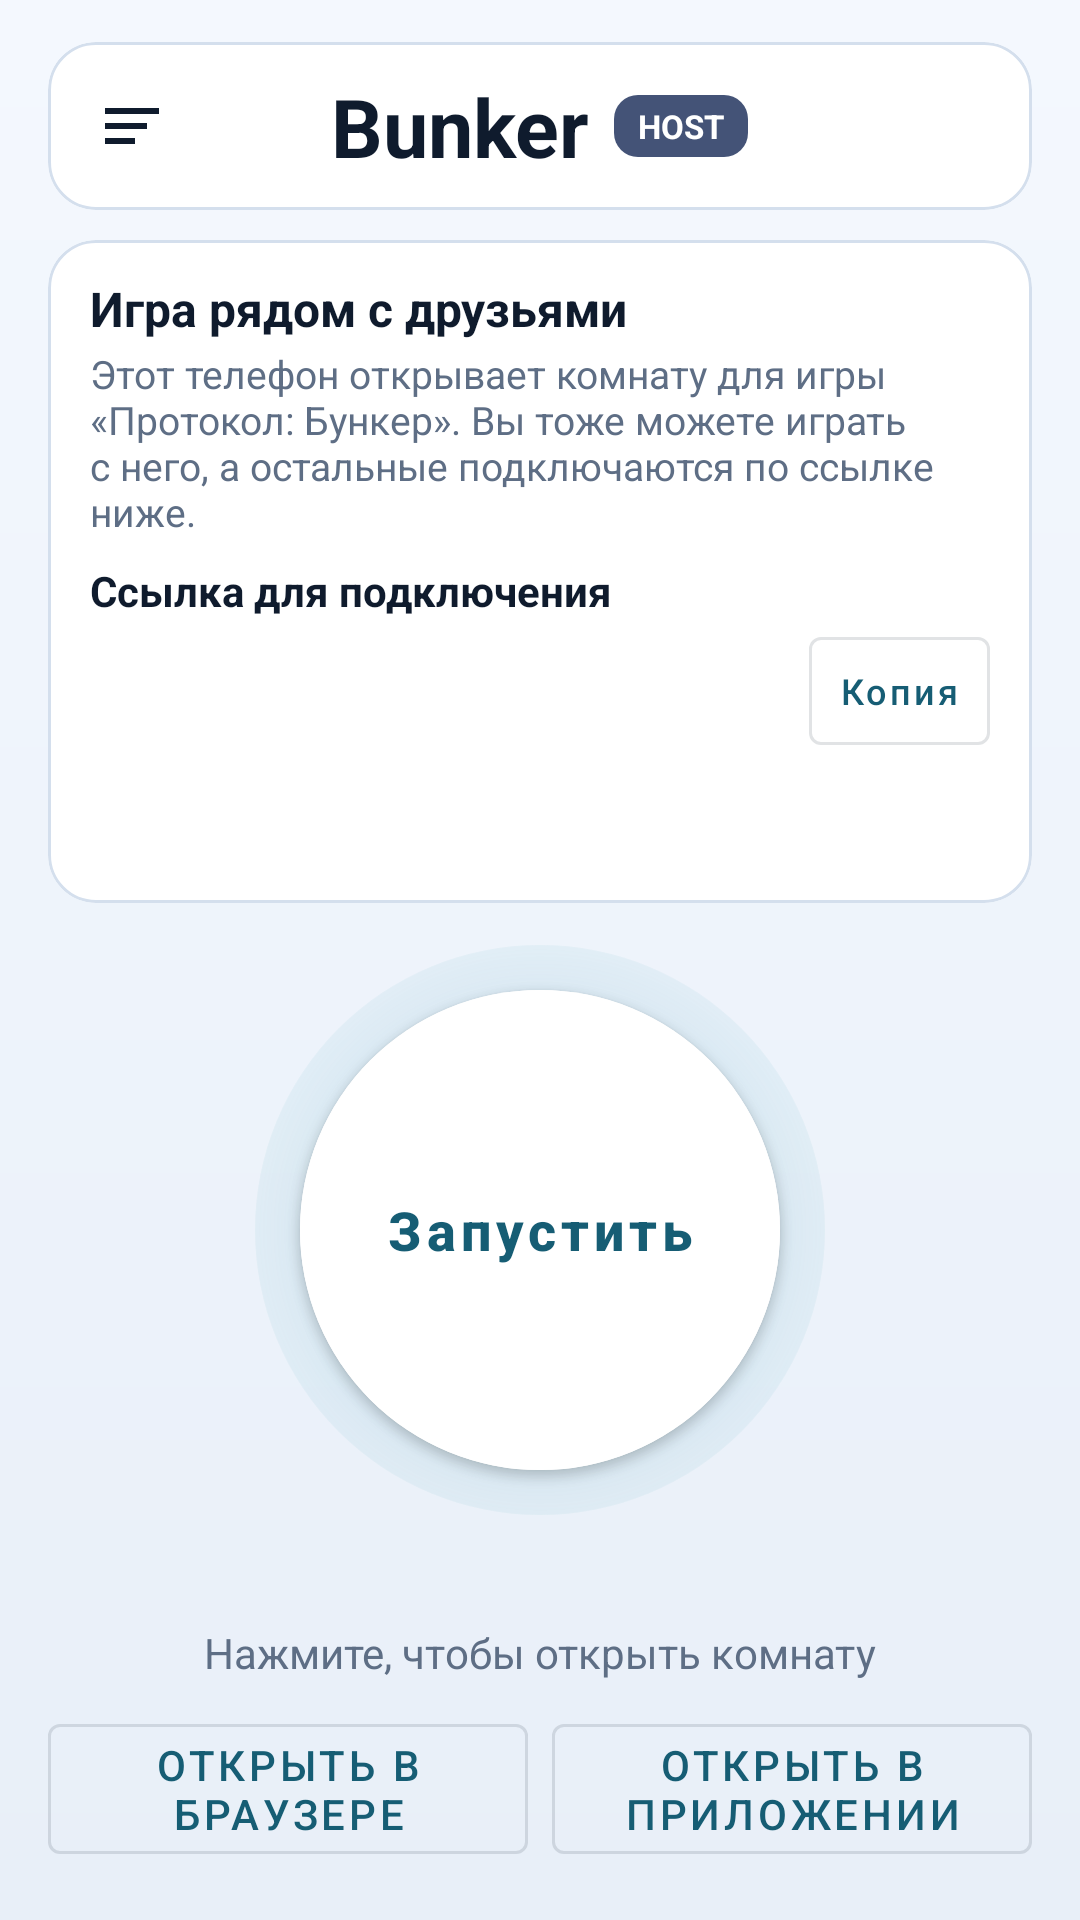

Icon bounding boxes for this 1080 × 1920 phone screenshot, format Rect(x1, y1, x2, y2):
Открыть меню: Rect(105, 108, 159, 144)
